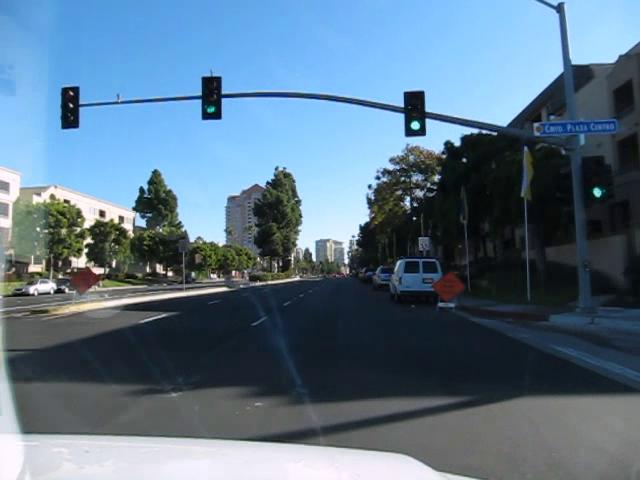speedLimit35: (417, 236, 430, 252)
